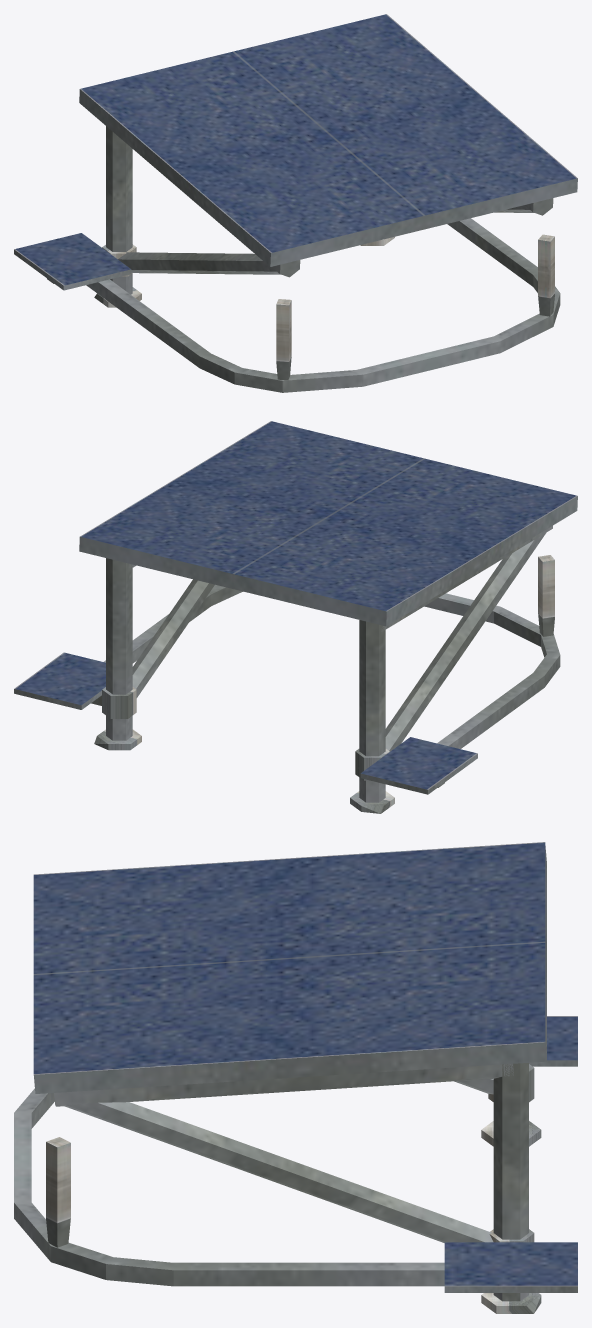
File: StartingBlock01.obj
3 views of the same model, one above another, from view 1: azimuth 30°, elevation 25°; view 2: azimuth 150°, elevation 25°; view 3: azimuth 270°, elevation 25° (orthographic). The views are drawn at different scales.
Visible parts, largest first — view 1: StartingBlock01; view 2: StartingBlock01; view 3: StartingBlock01.
Boxes of the visible parts, x1,y1,x2,y2 form: StartingBlock01: [14, 14, 577, 392]; StartingBlock01: [14, 421, 577, 813]; StartingBlock01: [14, 842, 577, 1313].
Size of the model in its own units: 1.35 by 0.6478 by 1.19.
